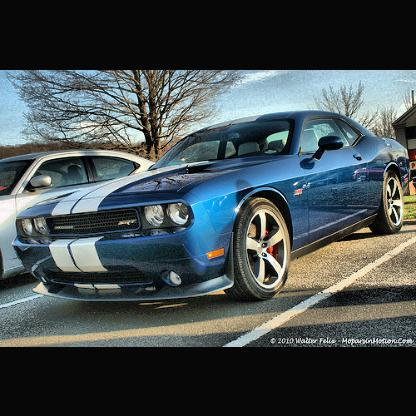Dodge Challenger SRT8 2011: (12, 111, 410, 310)
